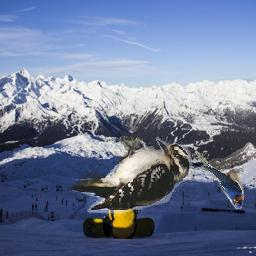Swallow: (196, 151, 245, 209)
Woodpecker: (68, 136, 196, 216)
